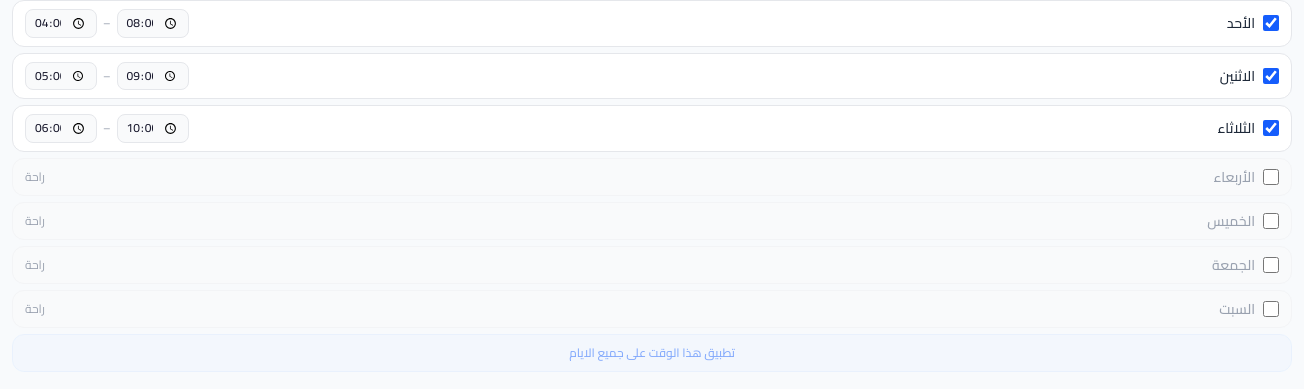
Test case: WorkScheduleEditor › keeps apply-all disabled until a day is edited, then uses the edited day
The width and height of the screenshot is (1304, 389).
Check: the button "تطبيق هذا الوقت على جميع الايام" is disabled, box [12,334,1292,372]
Click the element with test id "schedule-row-2" at (652, 128), box [12,105,1292,152]
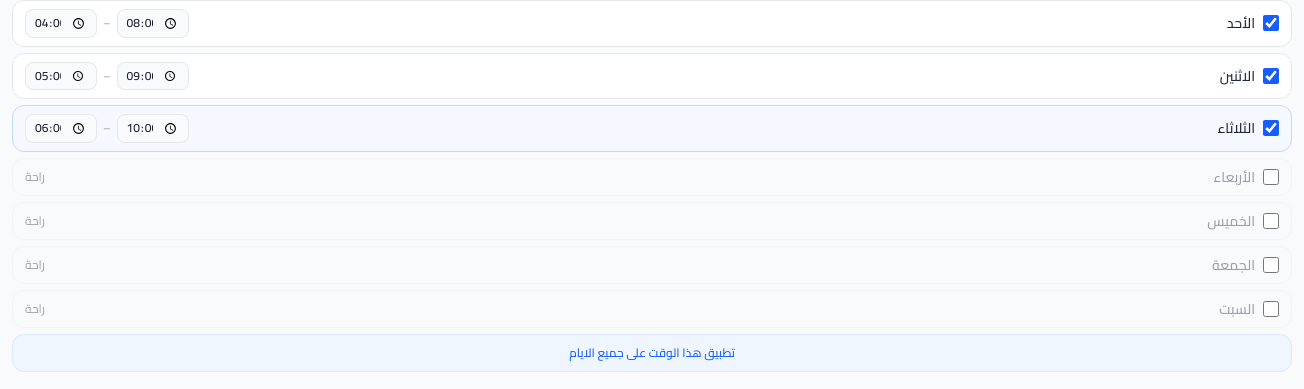
Check: the button "تطبيق هذا الوقت على جميع الايام" is enabled, box [12,334,1292,372]
Replace the text in the time field named "الاثنين وقت النهاية" with "18:30" at (61, 76), box [25,62,97,90]
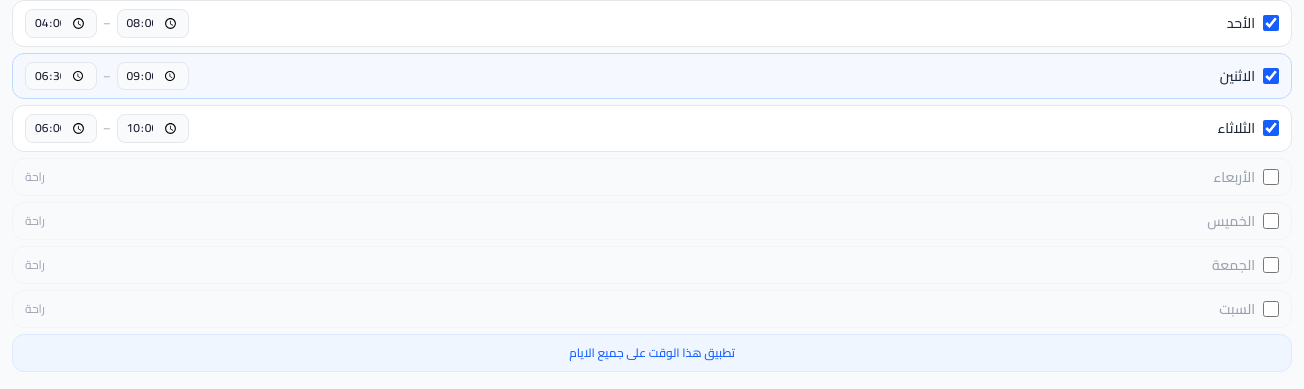
Check: the button "تطبيق هذا الوقت على جميع الايام" is enabled
Click the button "تطبيق هذا الوقت على جميع الايام" at (652, 353), box [12,334,1292,372]
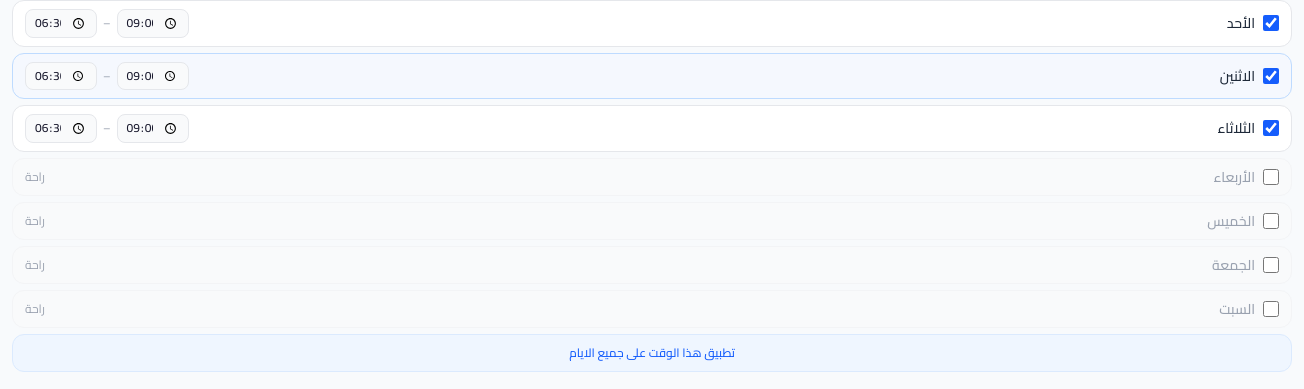
Check: the time field named "الأحد وقت النهاية" holds "18:30", box [25,9,97,38]
Check: the time field named "الثلاثاء وقت البداية" holds "09:00", box [117,114,189,143]
Check: the time field named "الثلاثاء وقت النهاية" holds "18:30", box [25,114,97,143]
